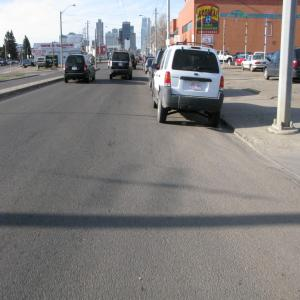Vehicle-registration-plate: (190, 83, 202, 91), (73, 68, 78, 71)
